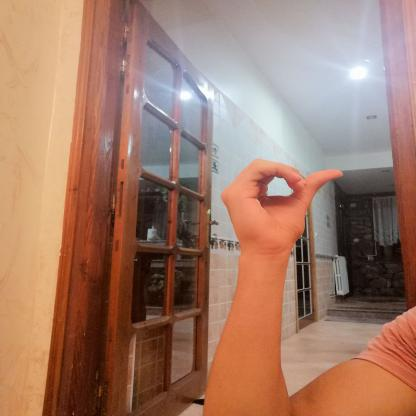WAW: (212, 153, 354, 262)
